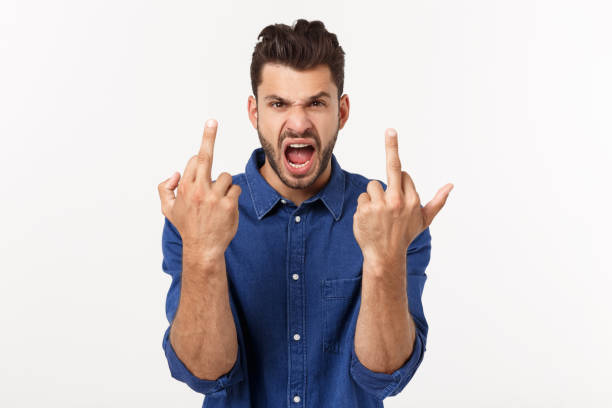insulting_gesture: (353, 125, 457, 246), (153, 117, 243, 250)
